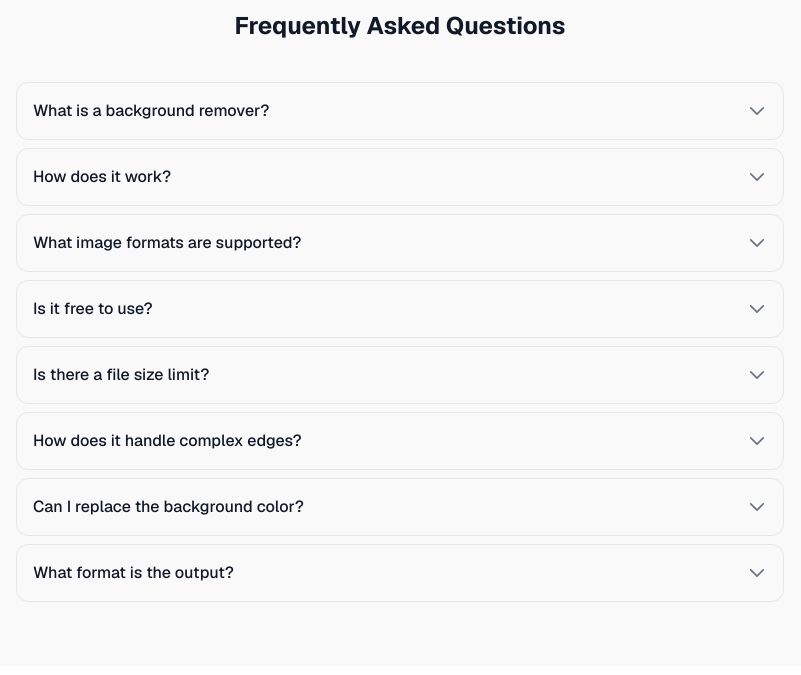
Test case: BackgroundRemoverFAQ › collapses answer on second click
Click the button "What is a background remover?" at (151, 110), box [17, 83, 783, 139]
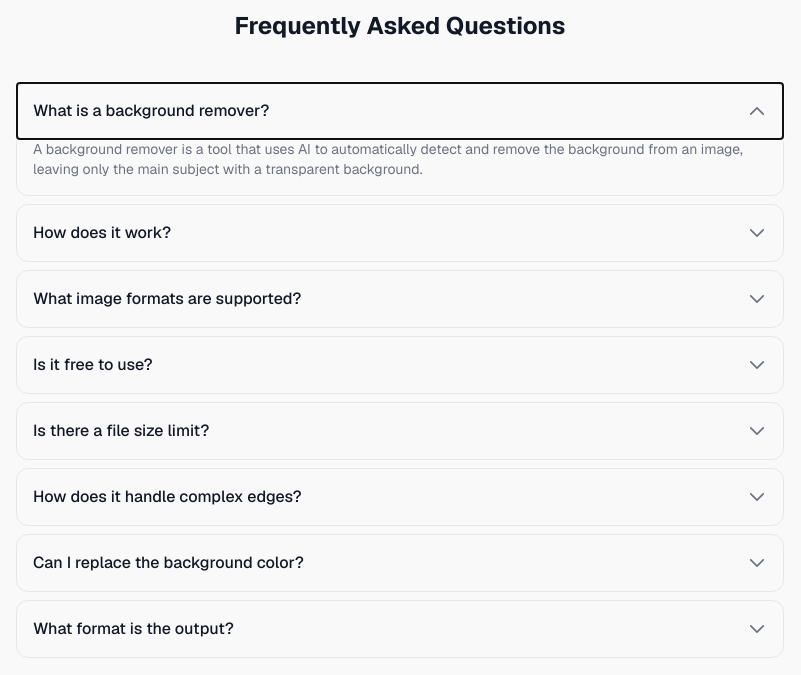
Expected: the text "uses AI to automatically detect" is shown, [33, 140, 743, 178]
Click the button "What is a background remover?" at (151, 110), box [17, 83, 783, 139]
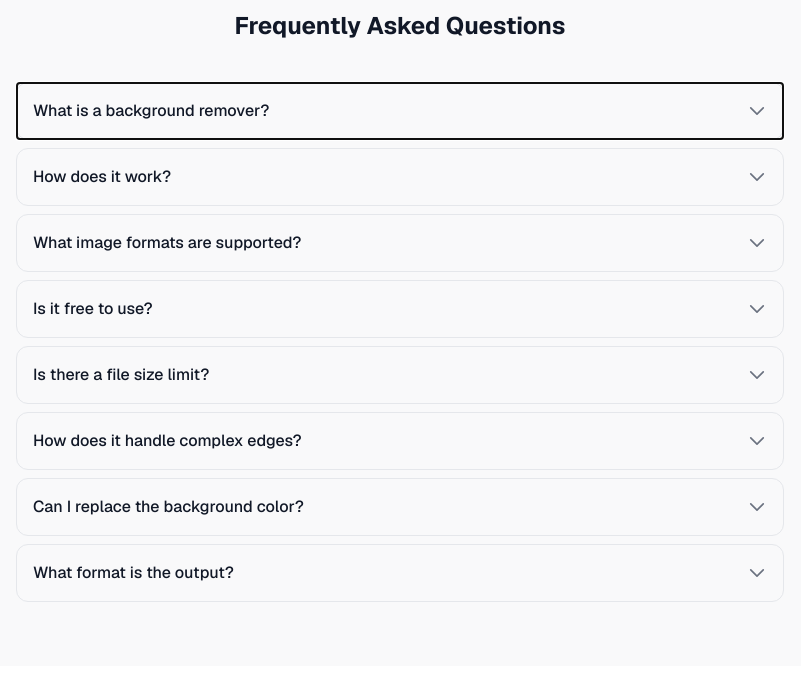
Expected: the text "uses AI to automatically detect" is gone
